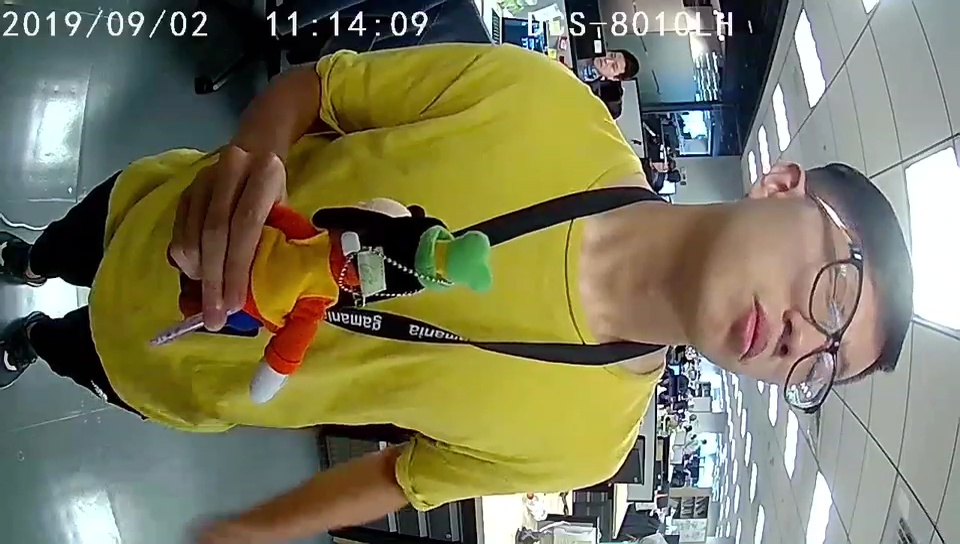goofy: (251, 217, 493, 404)
